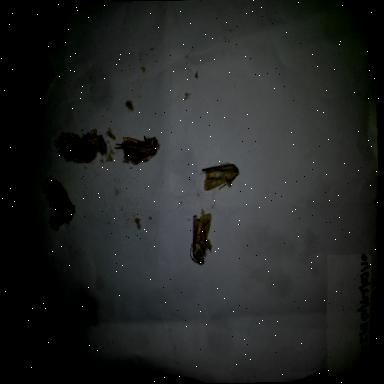abw: (42, 172, 79, 237), (18, 42, 58, 100), (52, 128, 110, 168), (185, 204, 219, 270), (112, 132, 164, 170), (197, 158, 244, 195)
